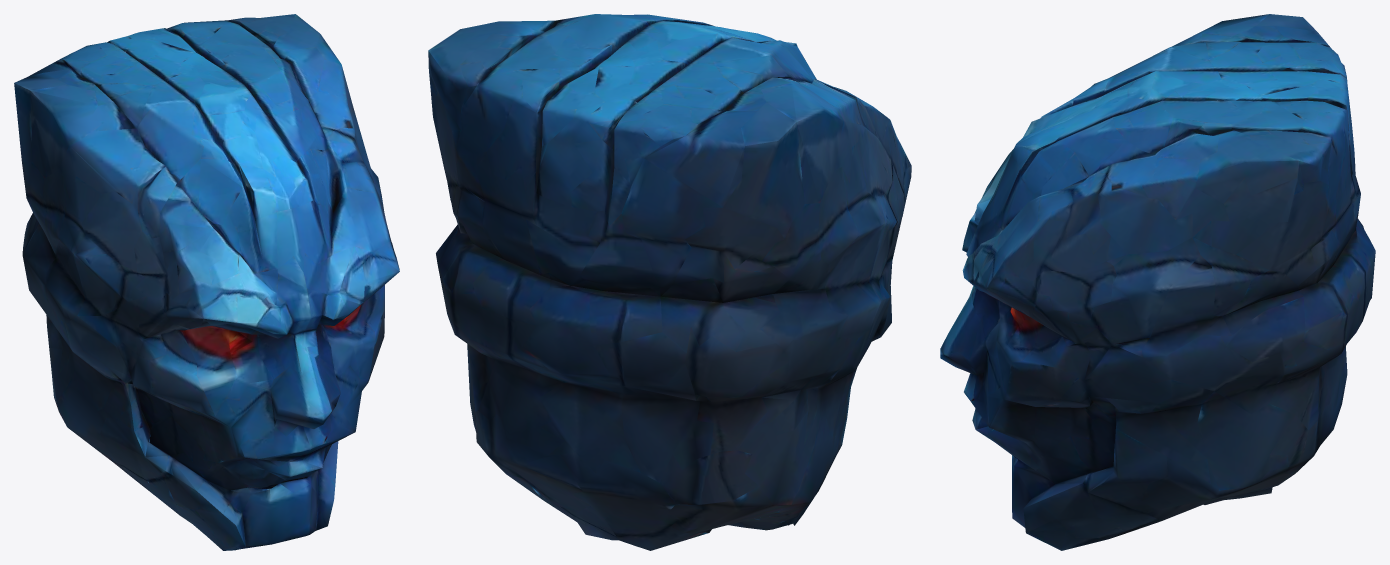
The model's file is monster_34.glb.
The picture shows the model from 3 angles, left to right: view 1: azimuth 30°, elevation 25°; view 2: azimuth 150°, elevation 25°; view 3: azimuth 270°, elevation 25°; orthographic projection. The views are drawn at different scales.
Parts seen in each view (by area): view 1: Guardian_0709181251_texture; view 2: Guardian_0709181251_texture; view 3: Guardian_0709181251_texture.
Boxes of the visible parts, <box> form: Guardian_0709181251_texture: <box>14,14,399,550</box>; Guardian_0709181251_texture: <box>428,14,911,550</box>; Guardian_0709181251_texture: <box>940,14,1375,550</box>.
Size of the model in its own units: 1.56 by 2 by 1.77.
Materials: 1 (1 with a texture image).
